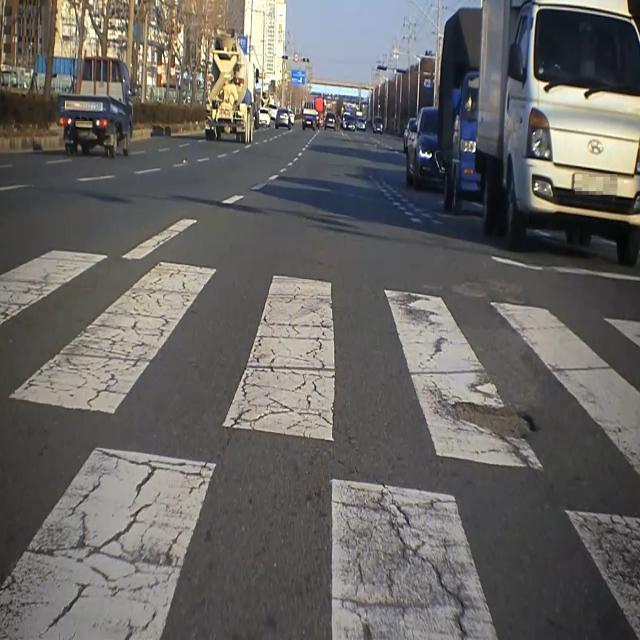pothole: (440, 386, 547, 448)
